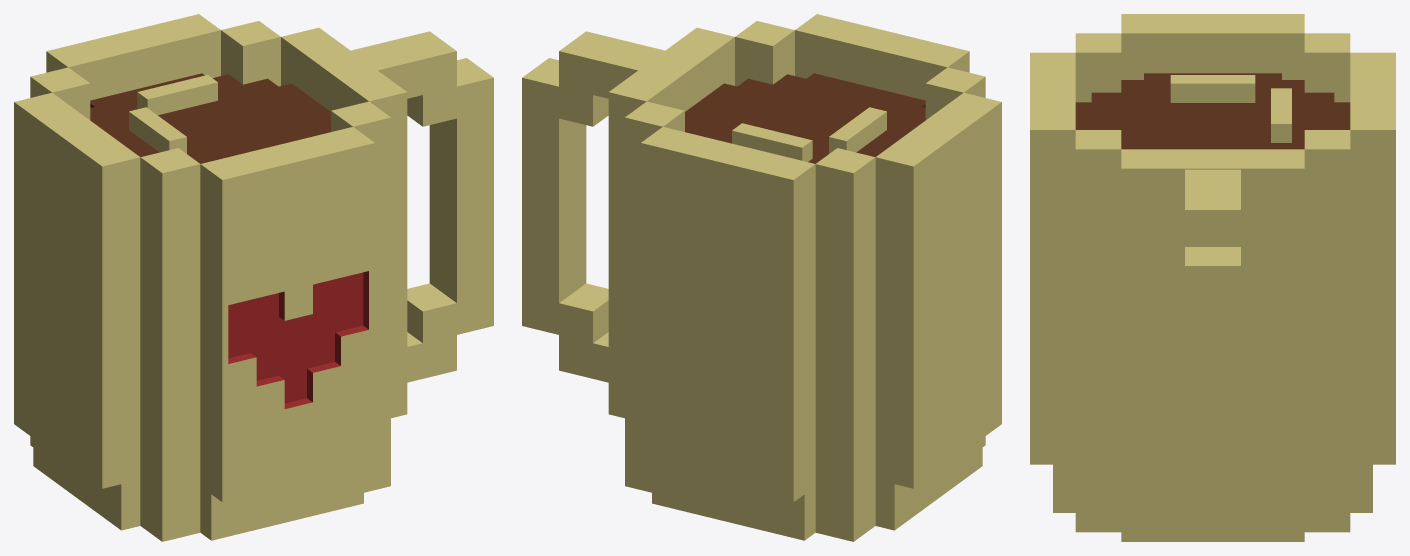
File: coffee.FBX
The picture shows the model from 3 angles, left to right: view 1: azimuth 30°, elevation 25°; view 2: azimuth 150°, elevation 25°; view 3: azimuth 270°, elevation 25°; orthographic projection. The views are drawn at different scales.
Visible parts, largest first — view 1: coffee_mug, coffee_liquids, coffee_shimmer1, coffee_shimmer2; view 2: coffee_mug, coffee_liquids, coffee_shimmer1, coffee_shimmer2; view 3: coffee_mug, coffee_liquids, coffee_shimmer2, coffee_shimmer1.
Part boxes in pixels (x1,y1,x2,y2): coffee_mug: (14, 14, 493, 541); coffee_liquids: (90, 73, 330, 163); coffee_shimmer1: (137, 75, 217, 115); coffee_shimmer2: (129, 107, 186, 153); coffee_mug: (522, 14, 1001, 541); coffee_liquids: (685, 73, 925, 163); coffee_shimmer1: (732, 123, 812, 161); coffee_shimmer2: (829, 107, 886, 153); coffee_mug: (1030, 14, 1395, 541); coffee_liquids: (1075, 73, 1350, 149); coffee_shimmer2: (1170, 75, 1255, 102); coffee_shimmer1: (1271, 88, 1291, 142).
Bounding box in the file's own units: 95.96 × 80.09 × 69.34.
